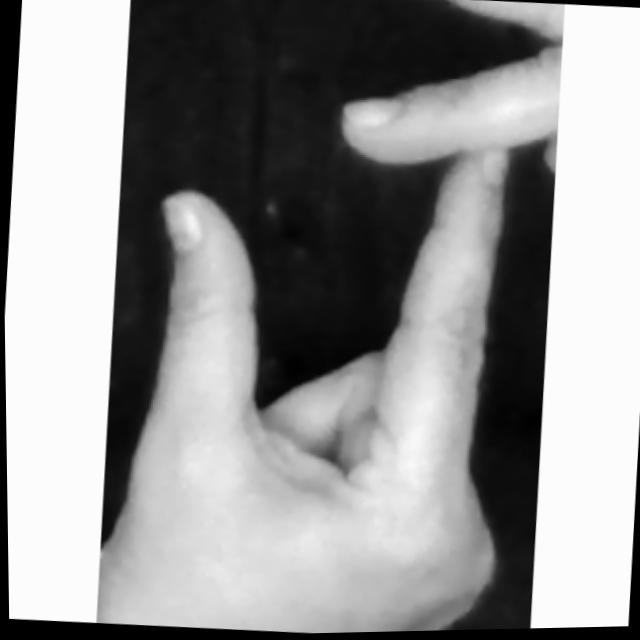U--: (86, 0, 574, 638)
